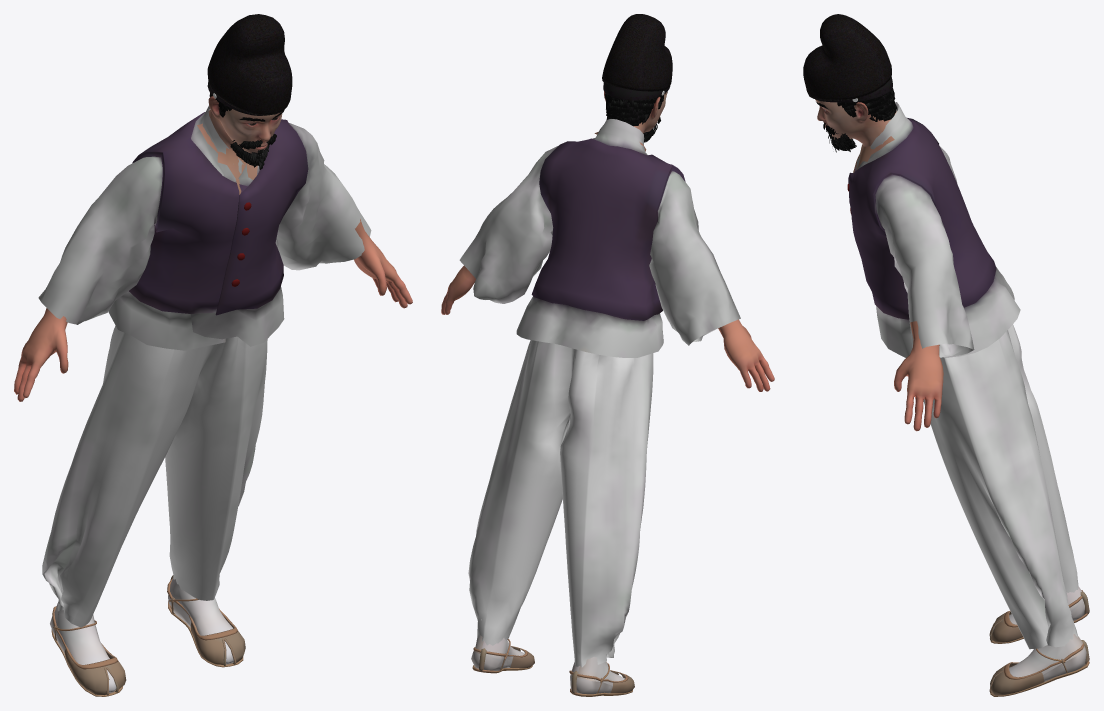
Rendered from bookstoreowner.fbx.
The picture shows the model from 3 angles, left to right: view 1: azimuth 30°, elevation 25°; view 2: azimuth 150°, elevation 25°; view 3: azimuth 270°, elevation 25°; orthographic projection. The views are drawn at different scales.
Parts seen in each view (by area): view 1: NPC_BookstoreOwner_Mesh_0; view 2: NPC_BookstoreOwner_Mesh_0; view 3: NPC_BookstoreOwner_Mesh_0.
Part boxes in pixels (x1,y1,x2,y2): NPC_BookstoreOwner_Mesh_0: [14, 14, 412, 696]; NPC_BookstoreOwner_Mesh_0: [441, 14, 774, 696]; NPC_BookstoreOwner_Mesh_0: [803, 14, 1089, 696].
Size of the model in its own units: 99.92 by 178 by 71.24.
Materials: 3 (3 with a texture image).
